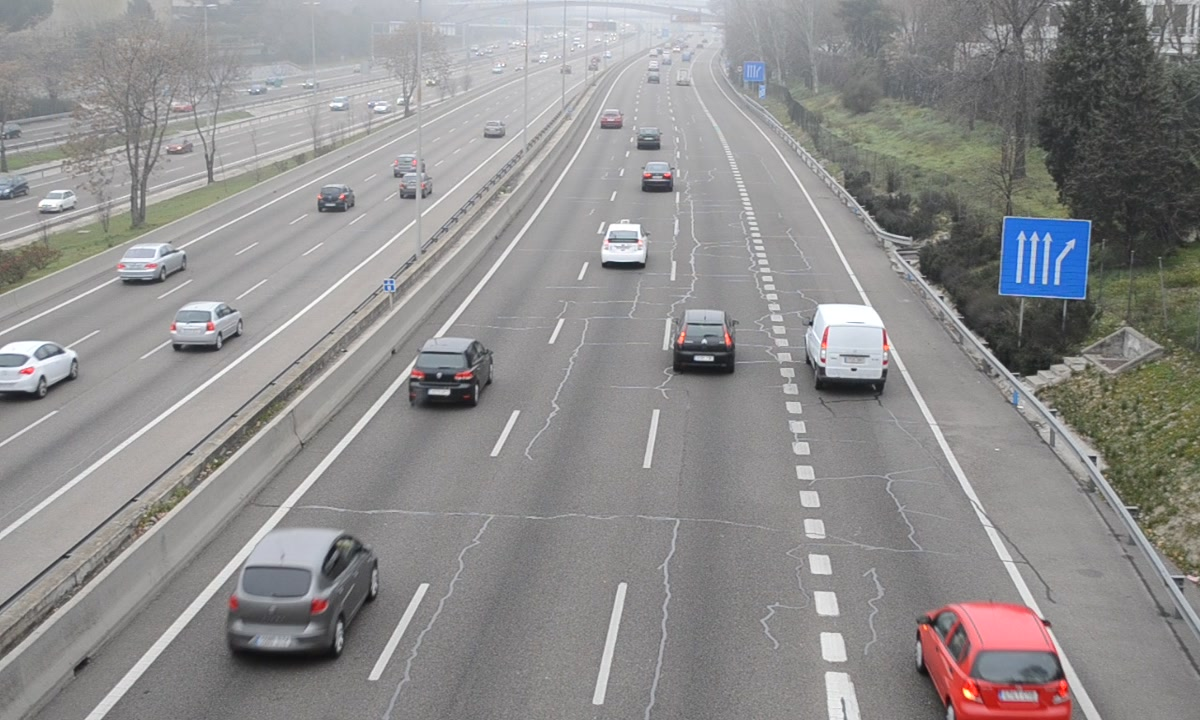car: (224, 528, 381, 663), (914, 598, 1077, 718), (407, 337, 493, 405), (674, 308, 735, 371), (600, 223, 647, 265), (640, 161, 675, 192), (635, 124, 662, 150), (600, 105, 625, 130)
van: (809, 303, 890, 387)
